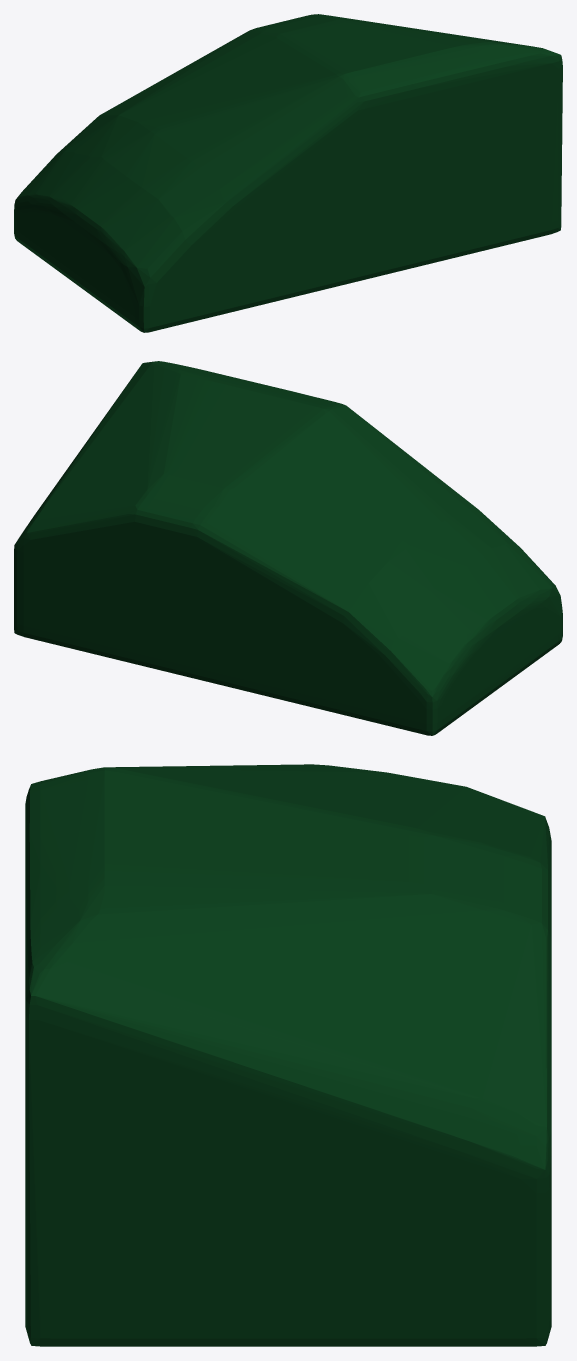
The model's file is left_hip_yaw_link_part_25.obj.
3 views of the same model, one above another, from view 1: azimuth 30°, elevation 25°; view 2: azimuth 150°, elevation 25°; view 3: azimuth 270°, elevation 25° (orthographic). The views are drawn at different scales.
Size of the model in its own units: 0.0754 by 0.0332 by 0.0408.
